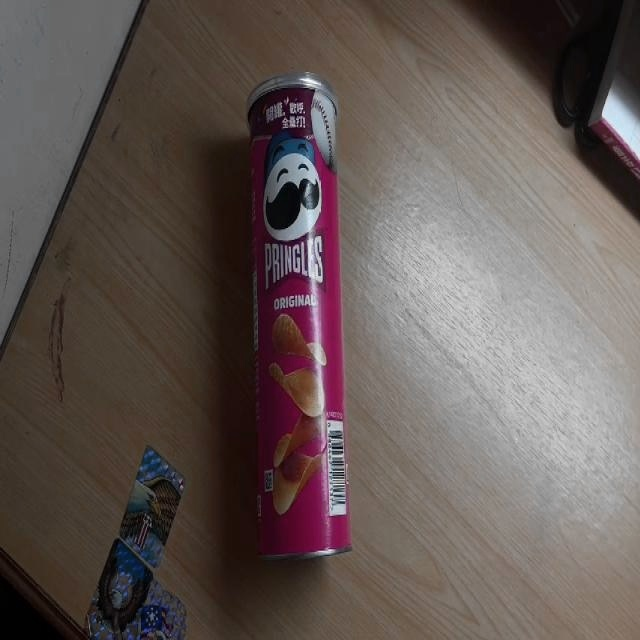Pringles: (246, 71, 352, 562)
